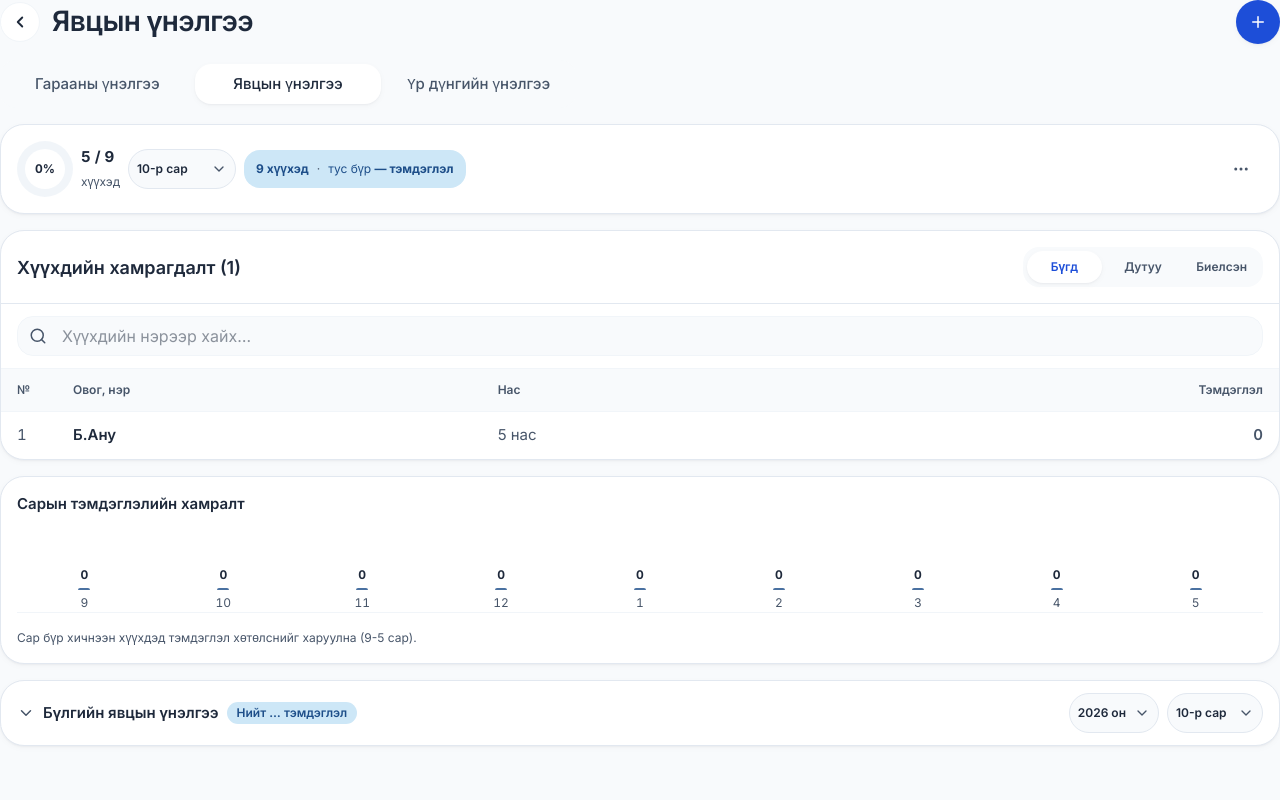
Test: the new-record strip › lists the children as a table with their own counts
This screenshot has width=1280, height=800.
Click the button named "Явцын үнэлгээ бичих".
click(1258, 22)  # box 1236,0 -> 1279,44
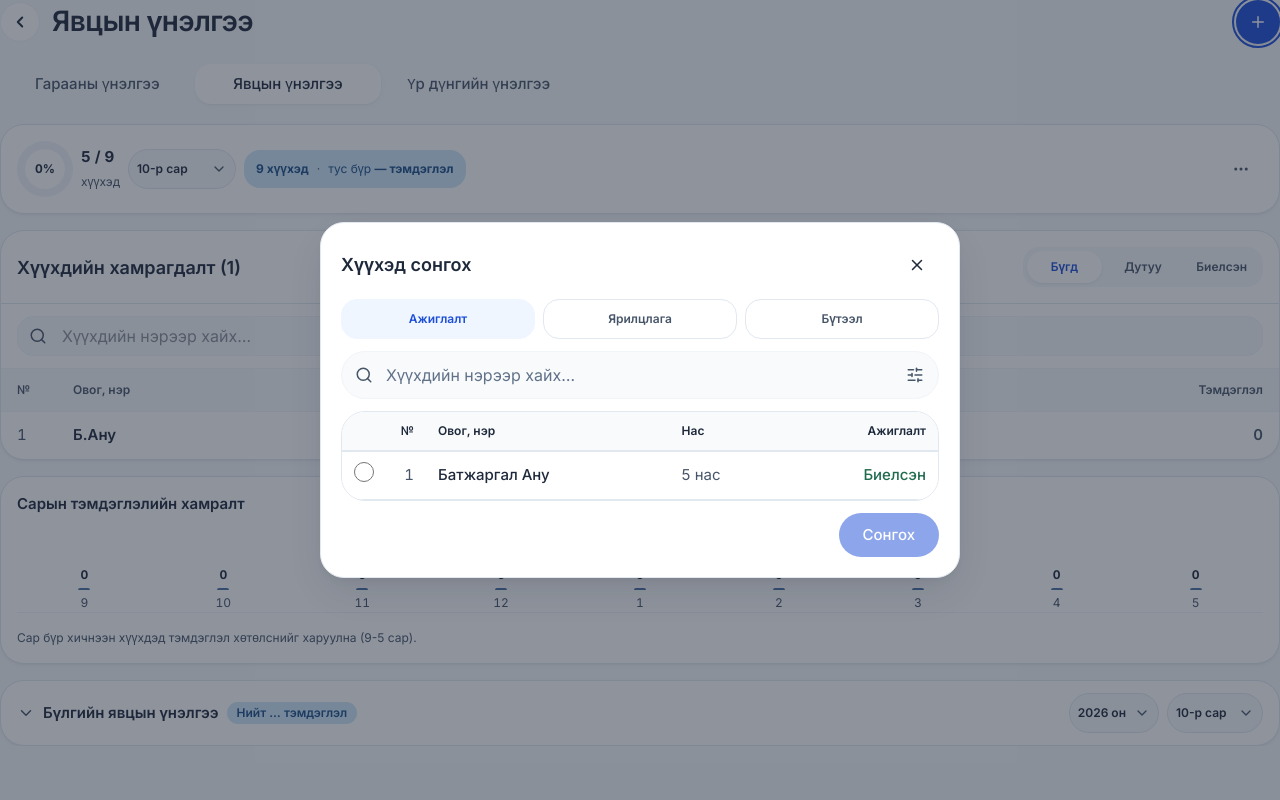
Check: the column heading "Ажиглалт" is shown, box 782,412 -> 938,451
Check: the text "Биелсэн" is shown, box 782,452 -> 938,499
Click the tab "Ярилцлага".
click(640, 319)  # box 543,299 -> 737,339
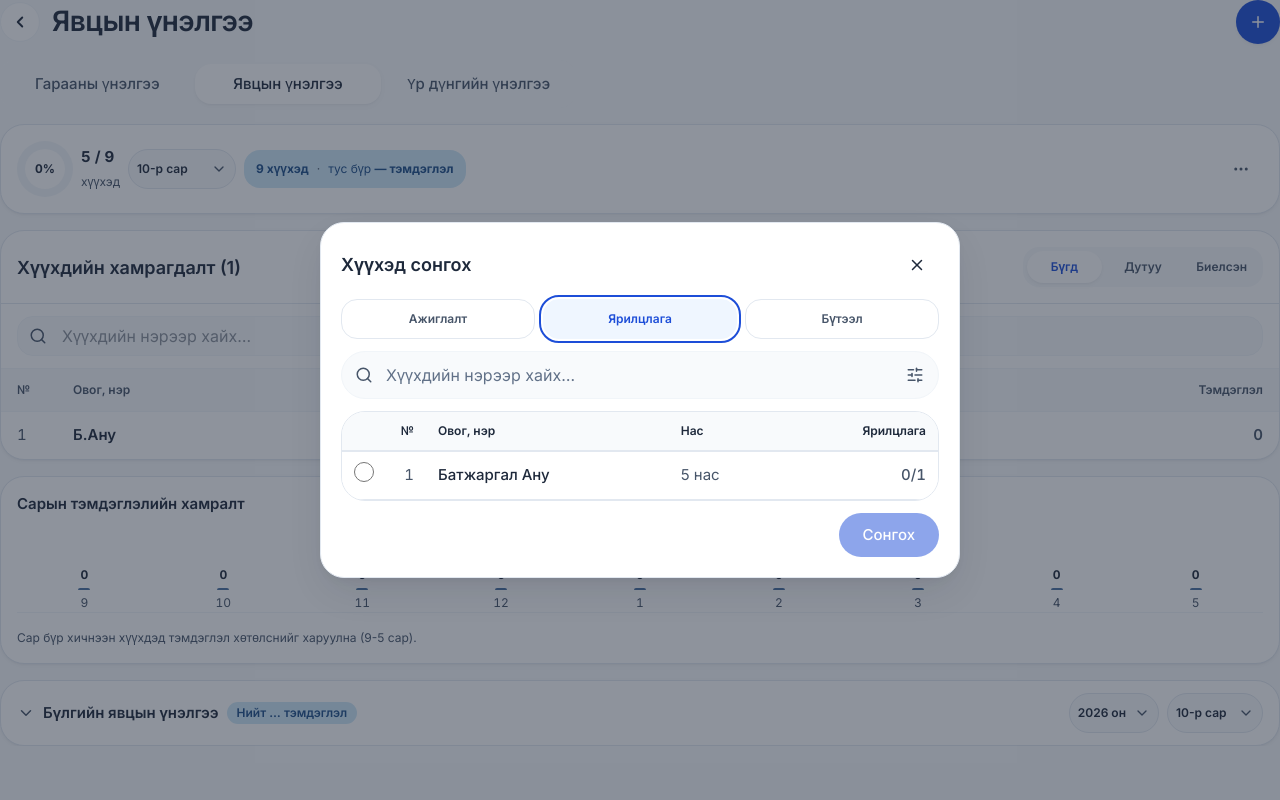
Check: the column heading "Ярилцлага" is shown, box 781,412 -> 938,451
Check: the text "0/1" is shown, box 781,452 -> 938,499
